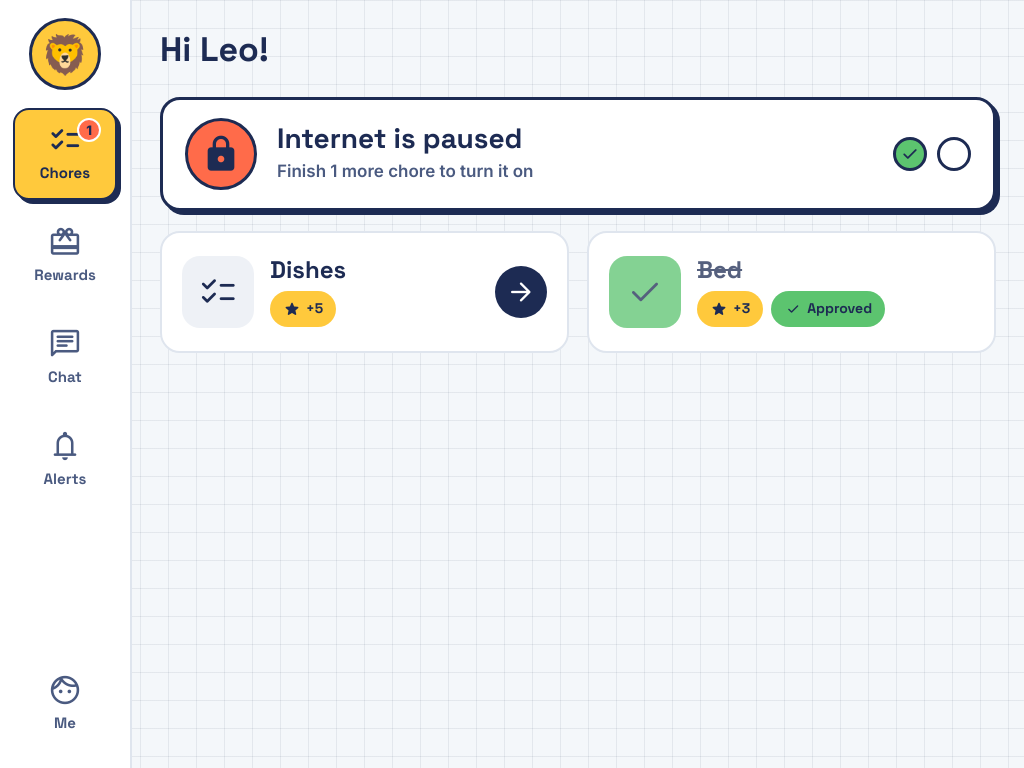
Test: KidApp › Alerts empty state
The image size is (1024, 768).
Click the button "Alerts" at point(65, 460), box [13, 414, 117, 506]
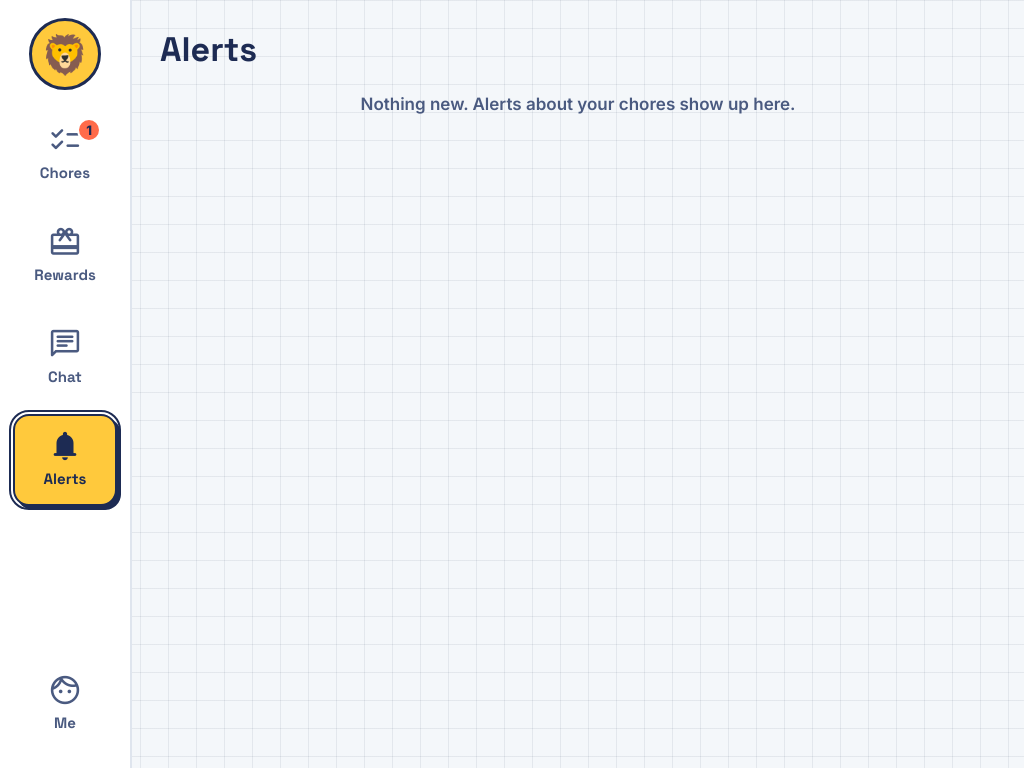
Expected: the text "Nothing new. Alerts about your chores show up here." is shown, [360, 94, 796, 114]
